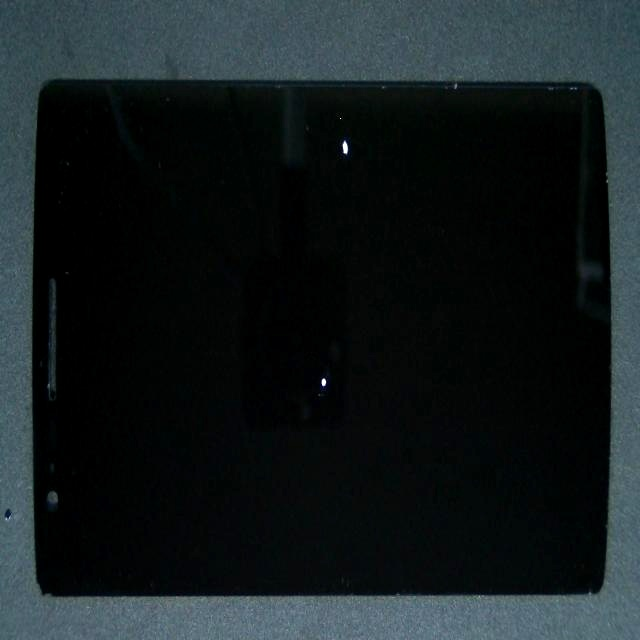stain: (145, 191, 455, 599), (163, 94, 490, 283)
